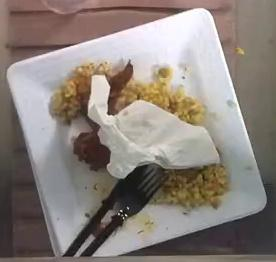rice: (51, 60, 204, 124), (150, 164, 229, 210)
